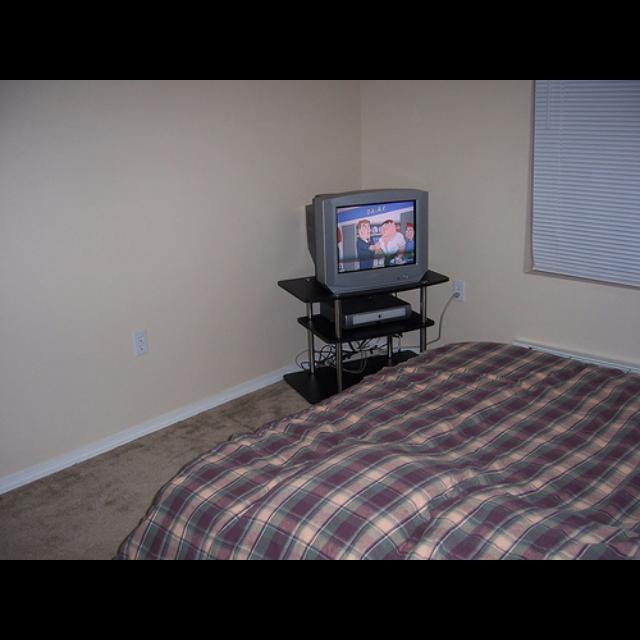Flat-Panel-TV: (305, 187, 433, 300)
